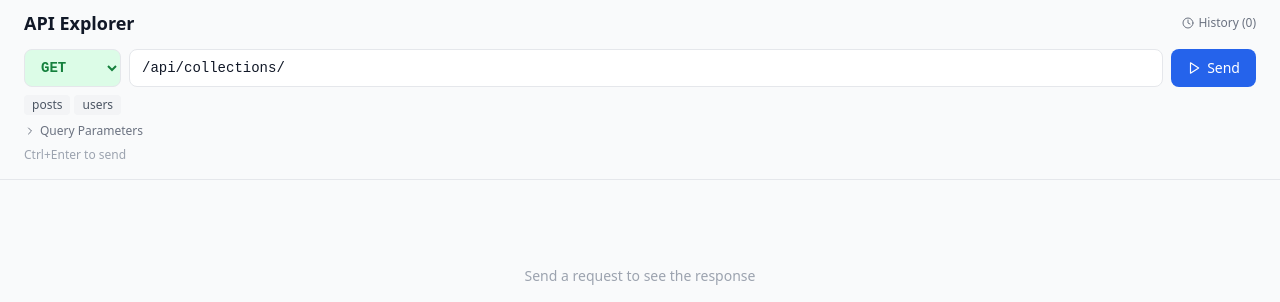
Scenario: ApiExplorer › shows network error in error display
Replace the text in the field named "Request path" with "/api/collections/posts" at x=646, y=68, box [129,49,1163,87]
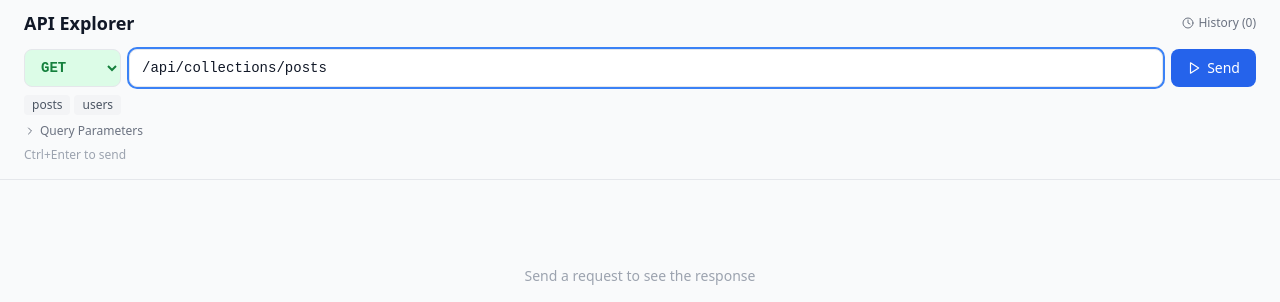
Click the button "Send" at x=1214, y=68, box [1171,49,1256,87]
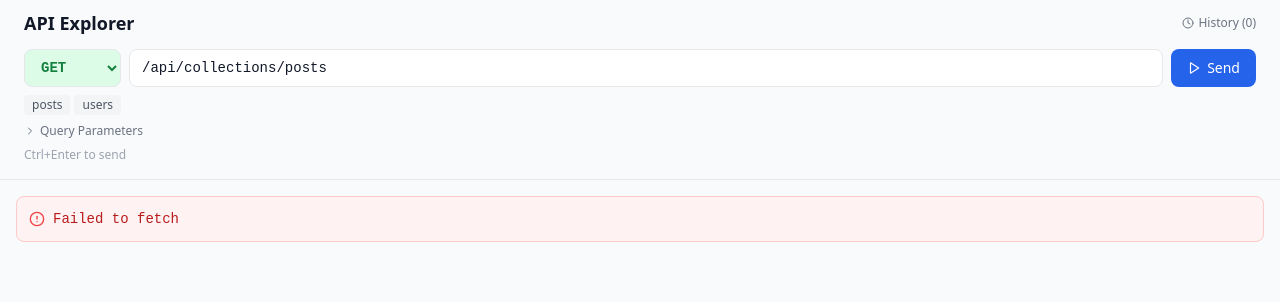
Now the text "Failed to fetch" is shown, box [53,209,179,229]
